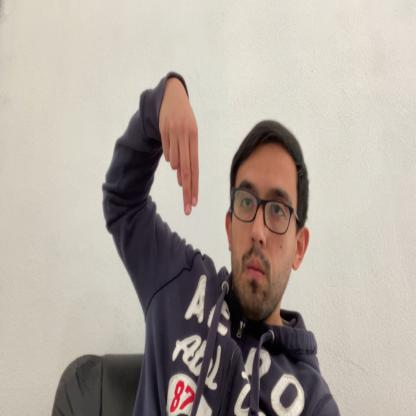N: (160, 77, 200, 215)
